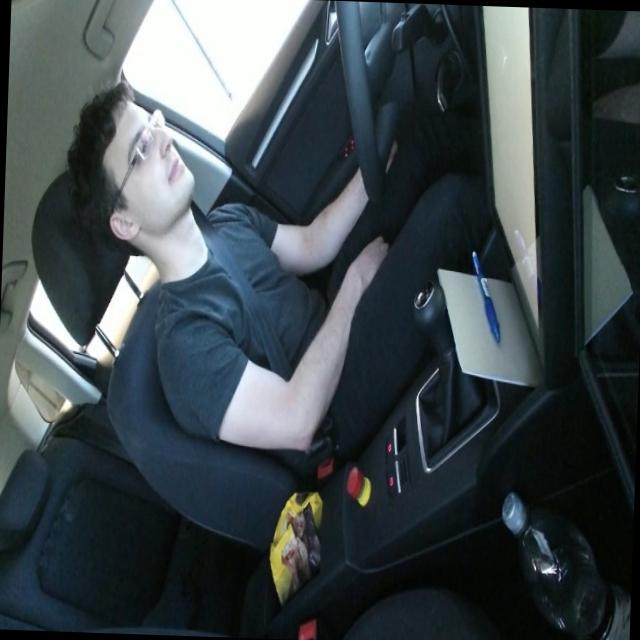pen: (467, 246, 503, 343)
